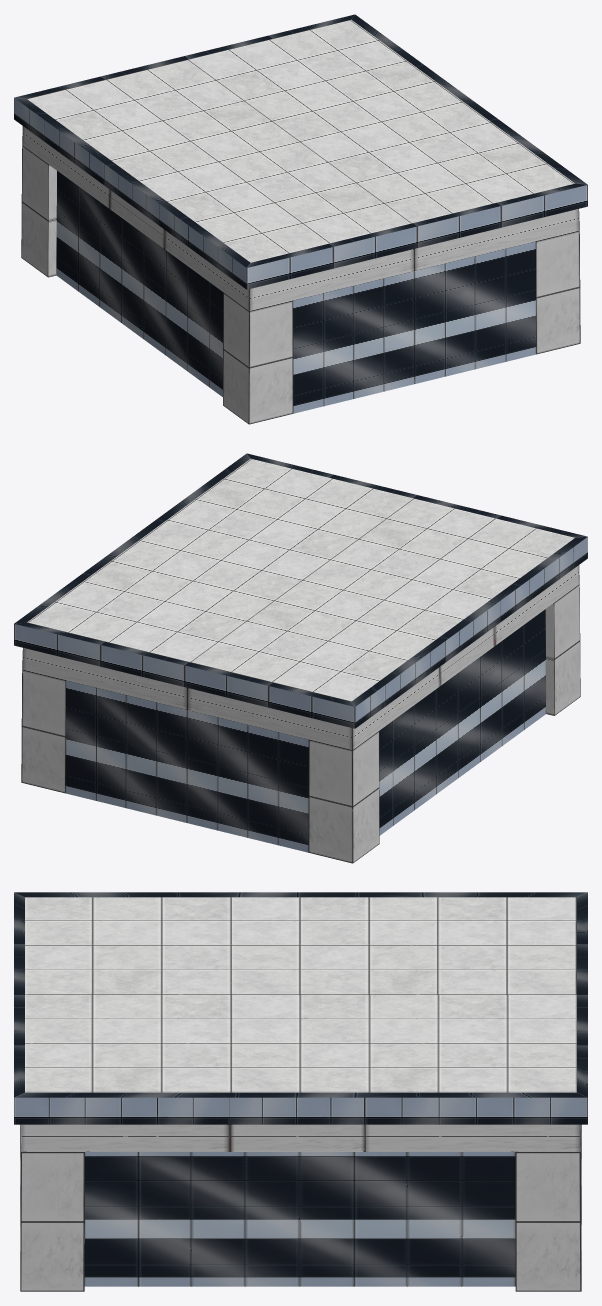
Rendered from Building3_v2.fbx.
The picture shows the model from 3 angles, top to bottom: view 1: azimuth 30°, elevation 25°; view 2: azimuth 150°, elevation 25°; view 3: azimuth 270°, elevation 25°; orthographic projection. The views are drawn at different scales.
Parts seen in each view (by area): view 1: ModulateBuilding01:ChinaBuildingModulate02; view 2: ModulateBuilding01:ChinaBuildingModulate02; view 3: ModulateBuilding01:ChinaBuildingModulate02.
Part boxes in pixels (box(x1,y1,x2,y2)): ModulateBuilding01:ChinaBuildingModulate02: box(14, 14, 587, 424); ModulateBuilding01:ChinaBuildingModulate02: box(14, 453, 587, 863); ModulateBuilding01:ChinaBuildingModulate02: box(14, 892, 587, 1291).
Bounding box in the file's own units: 1113 × 498 × 1316.
